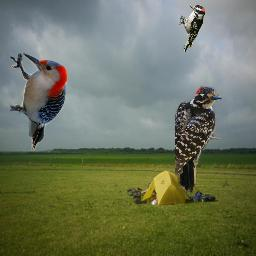Woodpecker: (10, 53, 67, 151), (175, 85, 222, 195), (179, 4, 205, 52)
